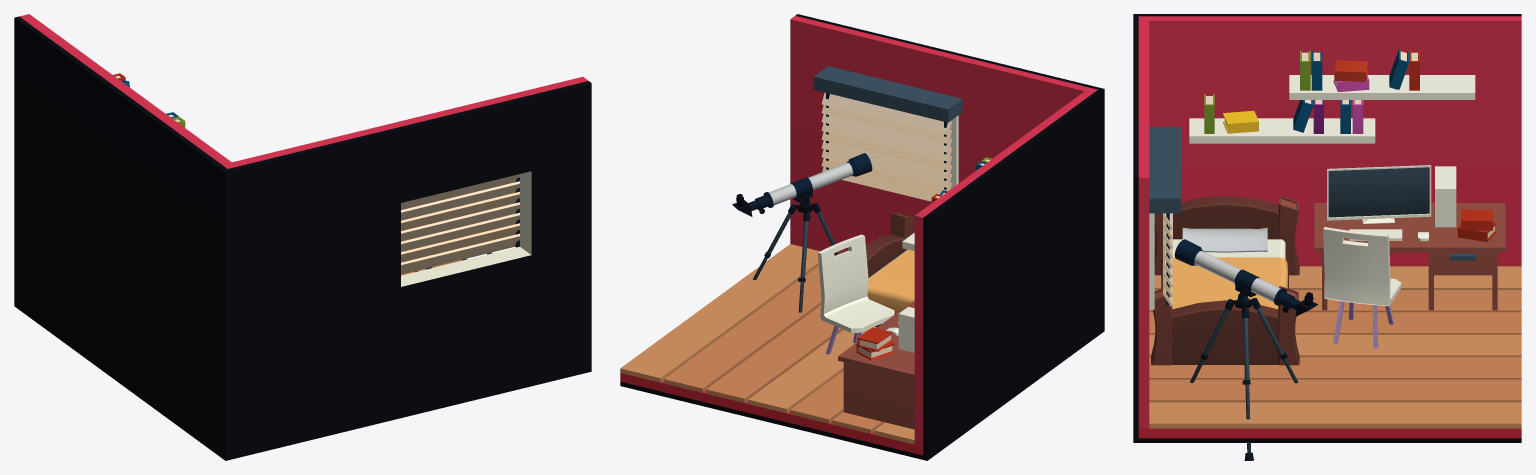
File: Room1_Bedroom_TWEAKED.glb
3 renders of one model, left to right at view 1: azimuth 30°, elevation 25°; view 2: azimuth 150°, elevation 25°; view 3: azimuth 270°, elevation 25°, orthographic. The views are drawn at different scales.
Parts seen in each view (by area): view 1: Walls2, Blind8, Blind7, Blind5, Blind4, Blind3, Blind6, Blind2; view 2: Walls2, Wood_Plank7, Wood_Plank1, Top (×2), Top2, Wood_Plank2, Bed, Telescope, Leg3, Wood_Plank3, Blind9, Wood_Plank4 (+12 smaller); view 3: Walls2, Bed, Wood_Plank7, Wood_Plank1, Top (×2), Wood_Plank2, Computer, Wood_Plank3, Wood_Plank4, Top2, Telescope, Wood_Plank5 (+16 smaller).
Part boxes in pixels (x1,y1,x2,y2): Walls2: (14, 14, 591, 460); Blind8: (401, 233, 519, 274); Blind7: (401, 223, 519, 262); Blind5: (401, 202, 519, 241); Blind4: (401, 191, 519, 230); Blind3: (401, 181, 519, 220); Blind6: (401, 212, 519, 251); Blind2: (401, 174, 519, 209); Walls2: (620, 14, 1104, 460); Wood_Plank7: (620, 244, 819, 382); Wood_Plank1: (664, 254, 835, 392); Top (×2): (813, 66, 962, 379); Top2: (818, 234, 894, 332); Wood_Plank2: (706, 305, 843, 402); Bed: (836, 212, 914, 327); Telescope: (732, 153, 872, 312); Leg3: (843, 362, 914, 429); Wood_Plank3: (748, 327, 876, 413); Blind9: (821, 92, 952, 135); Wood_Plank4: (790, 371, 843, 423); Walls2: (1133, 14, 1521, 442); Bed: (1151, 196, 1299, 365); Wood_Plank7: (1149, 402, 1521, 428); Wood_Plank1: (1149, 379, 1521, 402); Top (×2): (1149, 127, 1505, 252); Wood_Plank2: (1149, 357, 1521, 379); Computer: (1327, 165, 1431, 223); Wood_Plank3: (1149, 334, 1521, 357); Wood_Plank4: (1149, 312, 1521, 334); Top2: (1323, 227, 1401, 306); Telescope: (1174, 239, 1318, 460); Wood_Plank5: (1149, 290, 1521, 312).
Size of the model in its own units: 375 by 295 by 365.
Materials: 1 (1 with a texture image).
